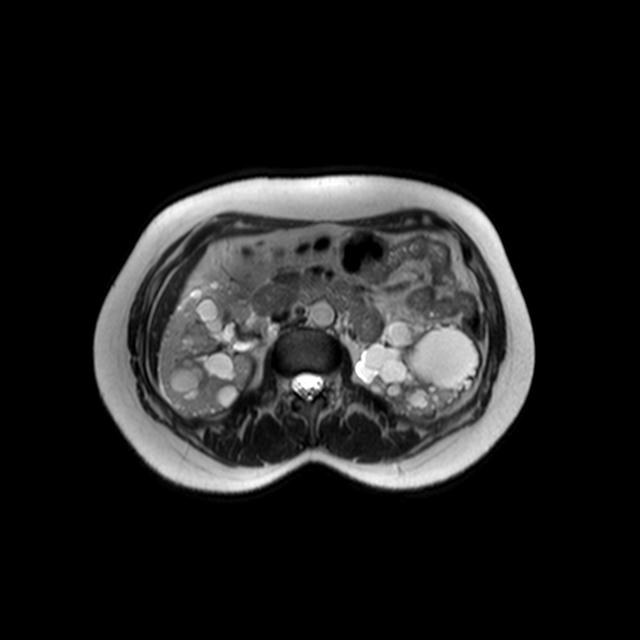sag: (157, 274, 270, 418)
sol: (353, 319, 484, 420)
